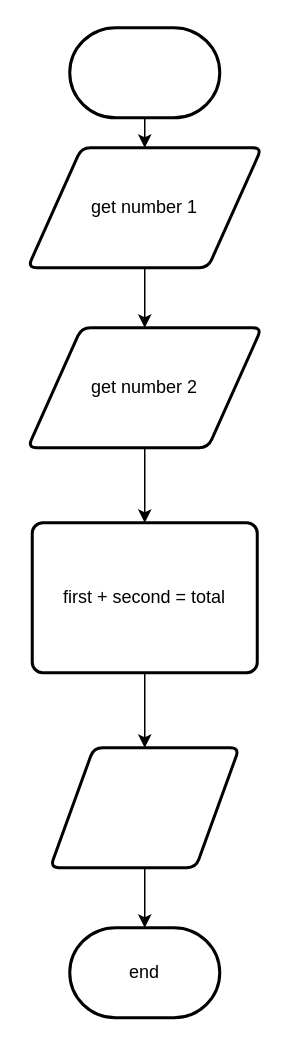
The diagram is 288 pixels wide and 1044 high, and some of its shapes have lost their labels. Here are the shapes that lost their labels. From the top down, the centre of each, then its label:
At point (144, 72): "start".
At point (144, 807): "show total and calculation".
